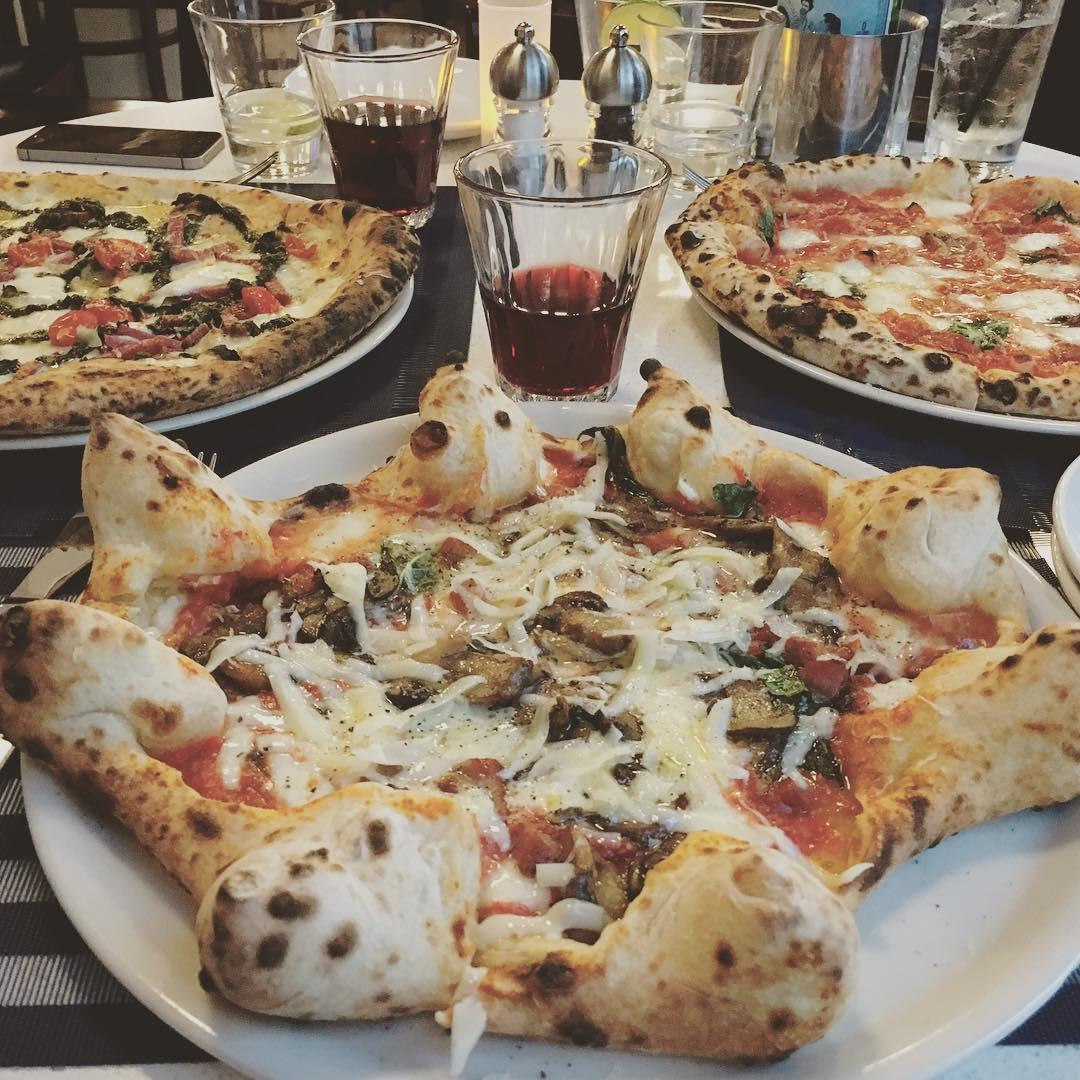Cheese: (644, 639, 716, 824), (274, 656, 375, 779), (613, 563, 733, 633), (486, 522, 594, 590), (379, 708, 504, 762), (518, 744, 608, 804)
Mushroom: (595, 477, 778, 557), (385, 632, 537, 715), (526, 583, 642, 659), (527, 676, 657, 742), (713, 673, 810, 750), (565, 832, 653, 915), (174, 620, 276, 688), (766, 527, 850, 595), (280, 582, 362, 651), (361, 549, 406, 607)
Pizza: (3, 404, 1080, 1054), (3, 165, 423, 430), (686, 156, 1080, 420)
Tomatoes: (47, 297, 137, 349), (83, 231, 152, 282), (223, 274, 294, 321), (157, 223, 238, 259), (3, 225, 72, 267), (270, 228, 327, 265)
